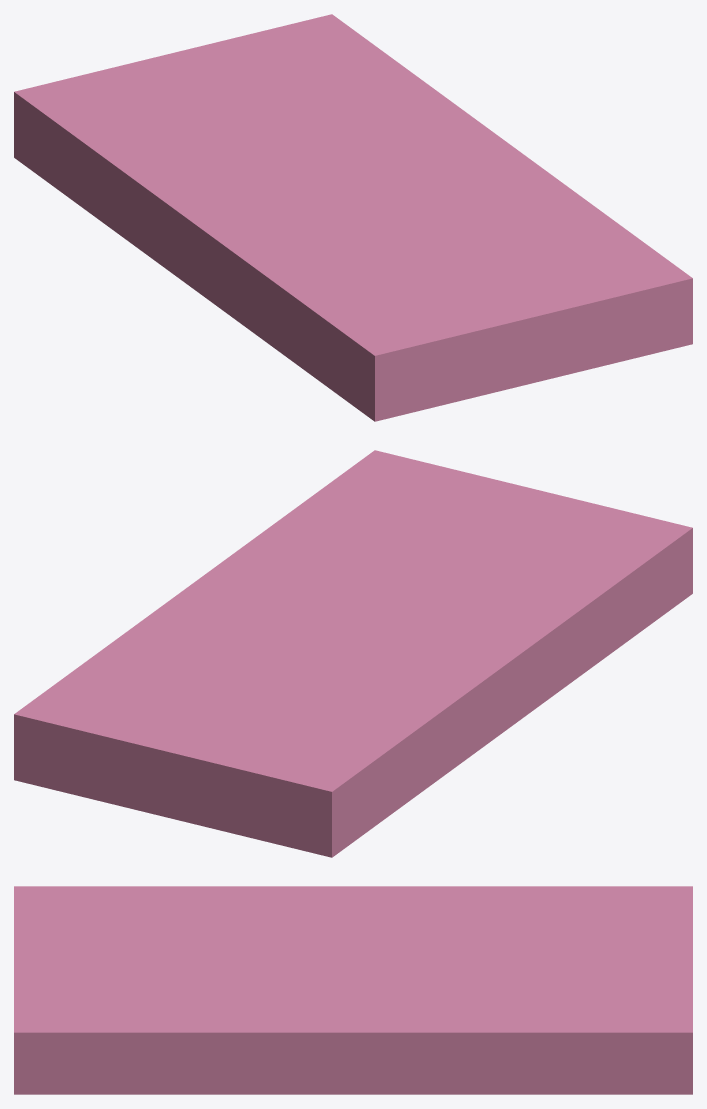
Rendered from curb_middle_2m.dae.
3 views of the same model, one above another, from view 1: azimuth 30°, elevation 25°; view 2: azimuth 150°, elevation 25°; view 3: azimuth 270°, elevation 25° (orthographic). The views are drawn at different scales.
Visible parts, largest first — view 1: Untitled; view 2: Untitled; view 3: Untitled.
Part boxes in pixels (x1=…): Untitled: x1=14, y1=14, x2=692, y2=421; Untitled: x1=14, y1=450, x2=692, y2=857; Untitled: x1=14, y1=886, x2=692, y2=1094.
Size of the model in its own units: 2.06 by 4.05 by 0.4075.
